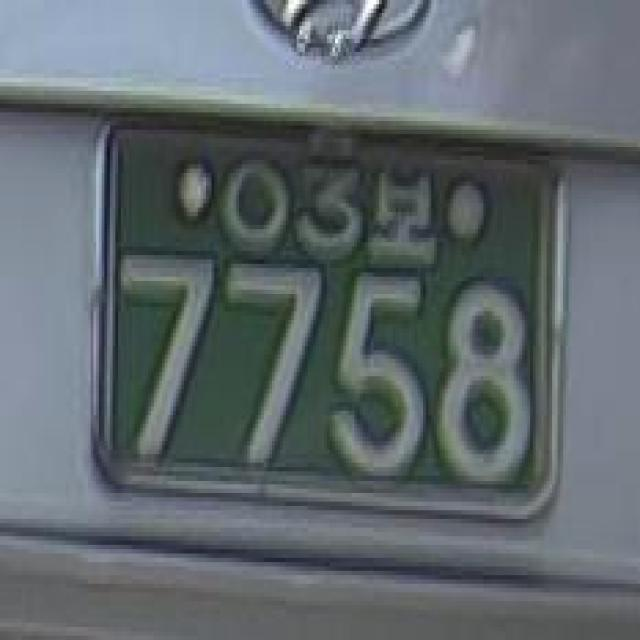illegal_plate: (79, 93, 584, 562)
